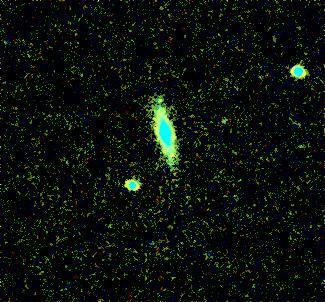star: (147, 84, 177, 114)
